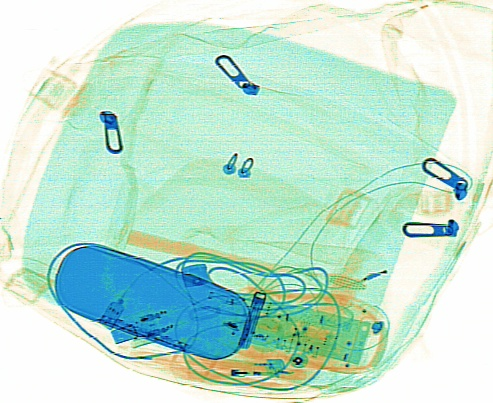lighter: (177, 352, 290, 380)
